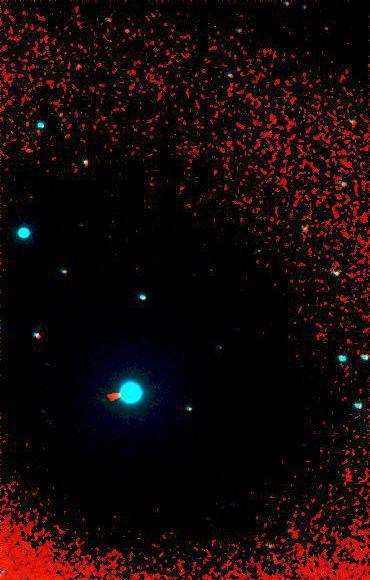star: (105, 381, 135, 411)
